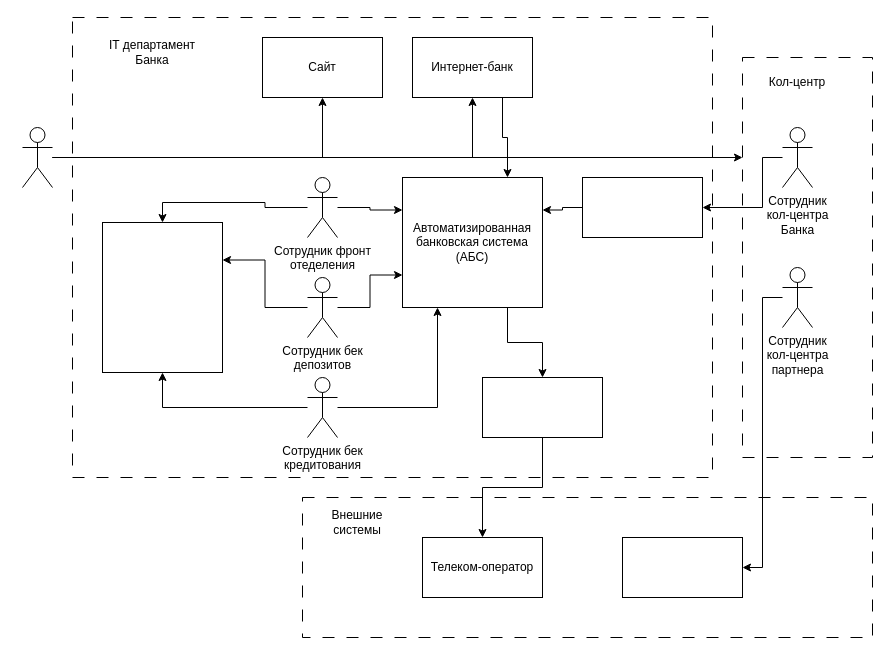
Some shapes in this 890 by 655 pixel diagram are drawn without their labels. The shapes that lost their labels are listed below. From the top down, each one's box as (x1, y1, x2, y2) in pixels, then its label:
(22, 126, 52, 188): Клиент
(582, 176, 702, 238): Система кол-центра
(102, 222, 222, 372): Сервер электронной почты
(482, 376, 602, 438): СМС-шлюз телеком-оператора
(622, 536, 742, 598): Система партнёрского кол-центра
